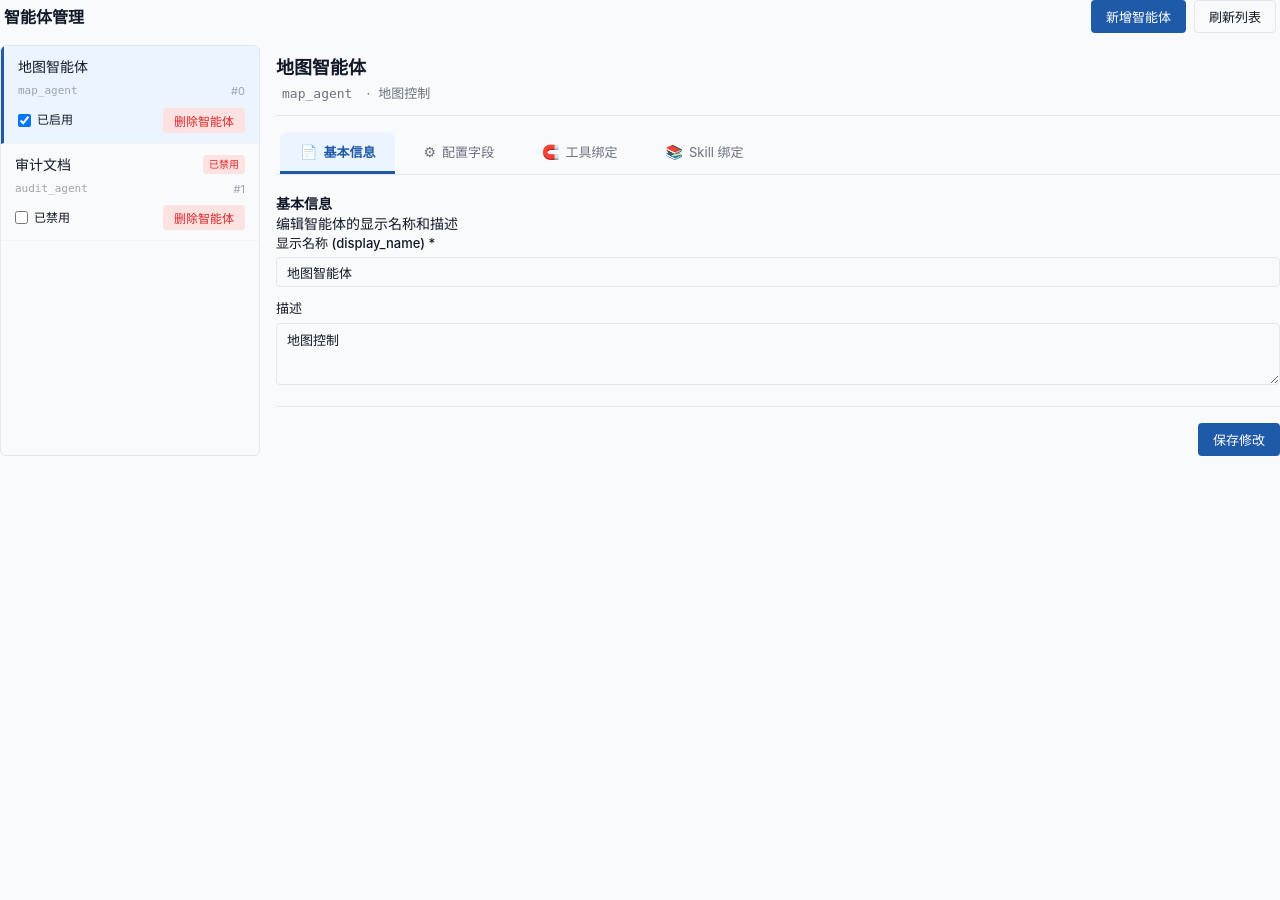
Test case: AgentManager 组件 › test_new_agent_button_opens_dialog 点击新增按钮弹出表单
The width and height of the screenshot is (1280, 900).
Click the button "新增智能体".
click(1138, 16)  # box [1091,0,1186,33]
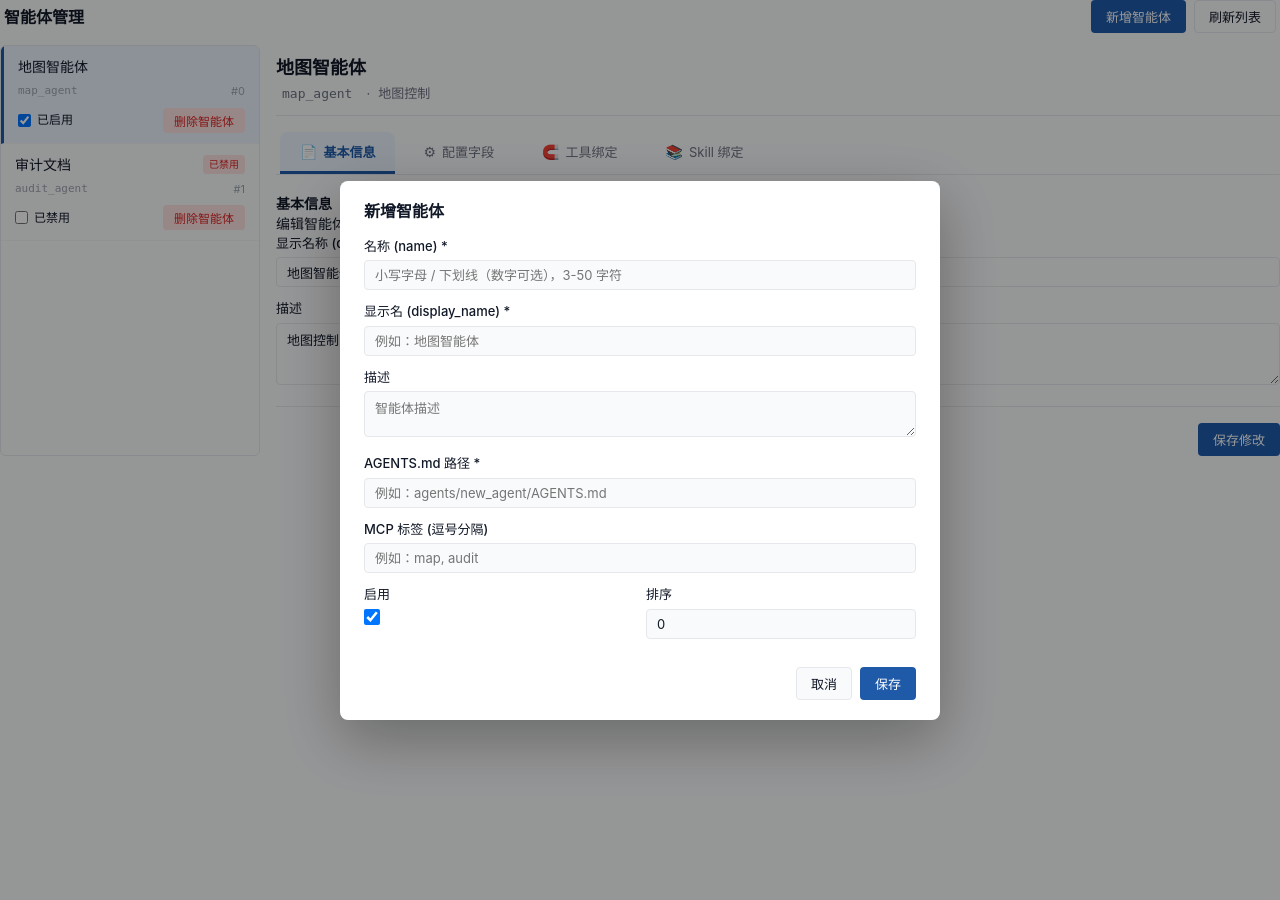
Expected: the text "AGENTS.md 路径" is shown, [364,455,480,471]
